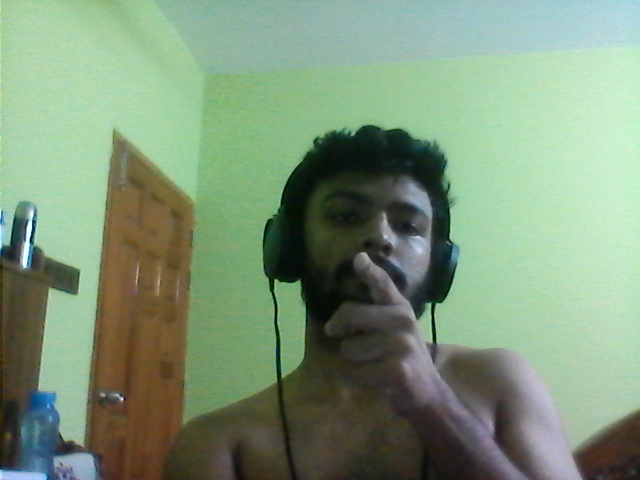You: (318, 245, 476, 430)
